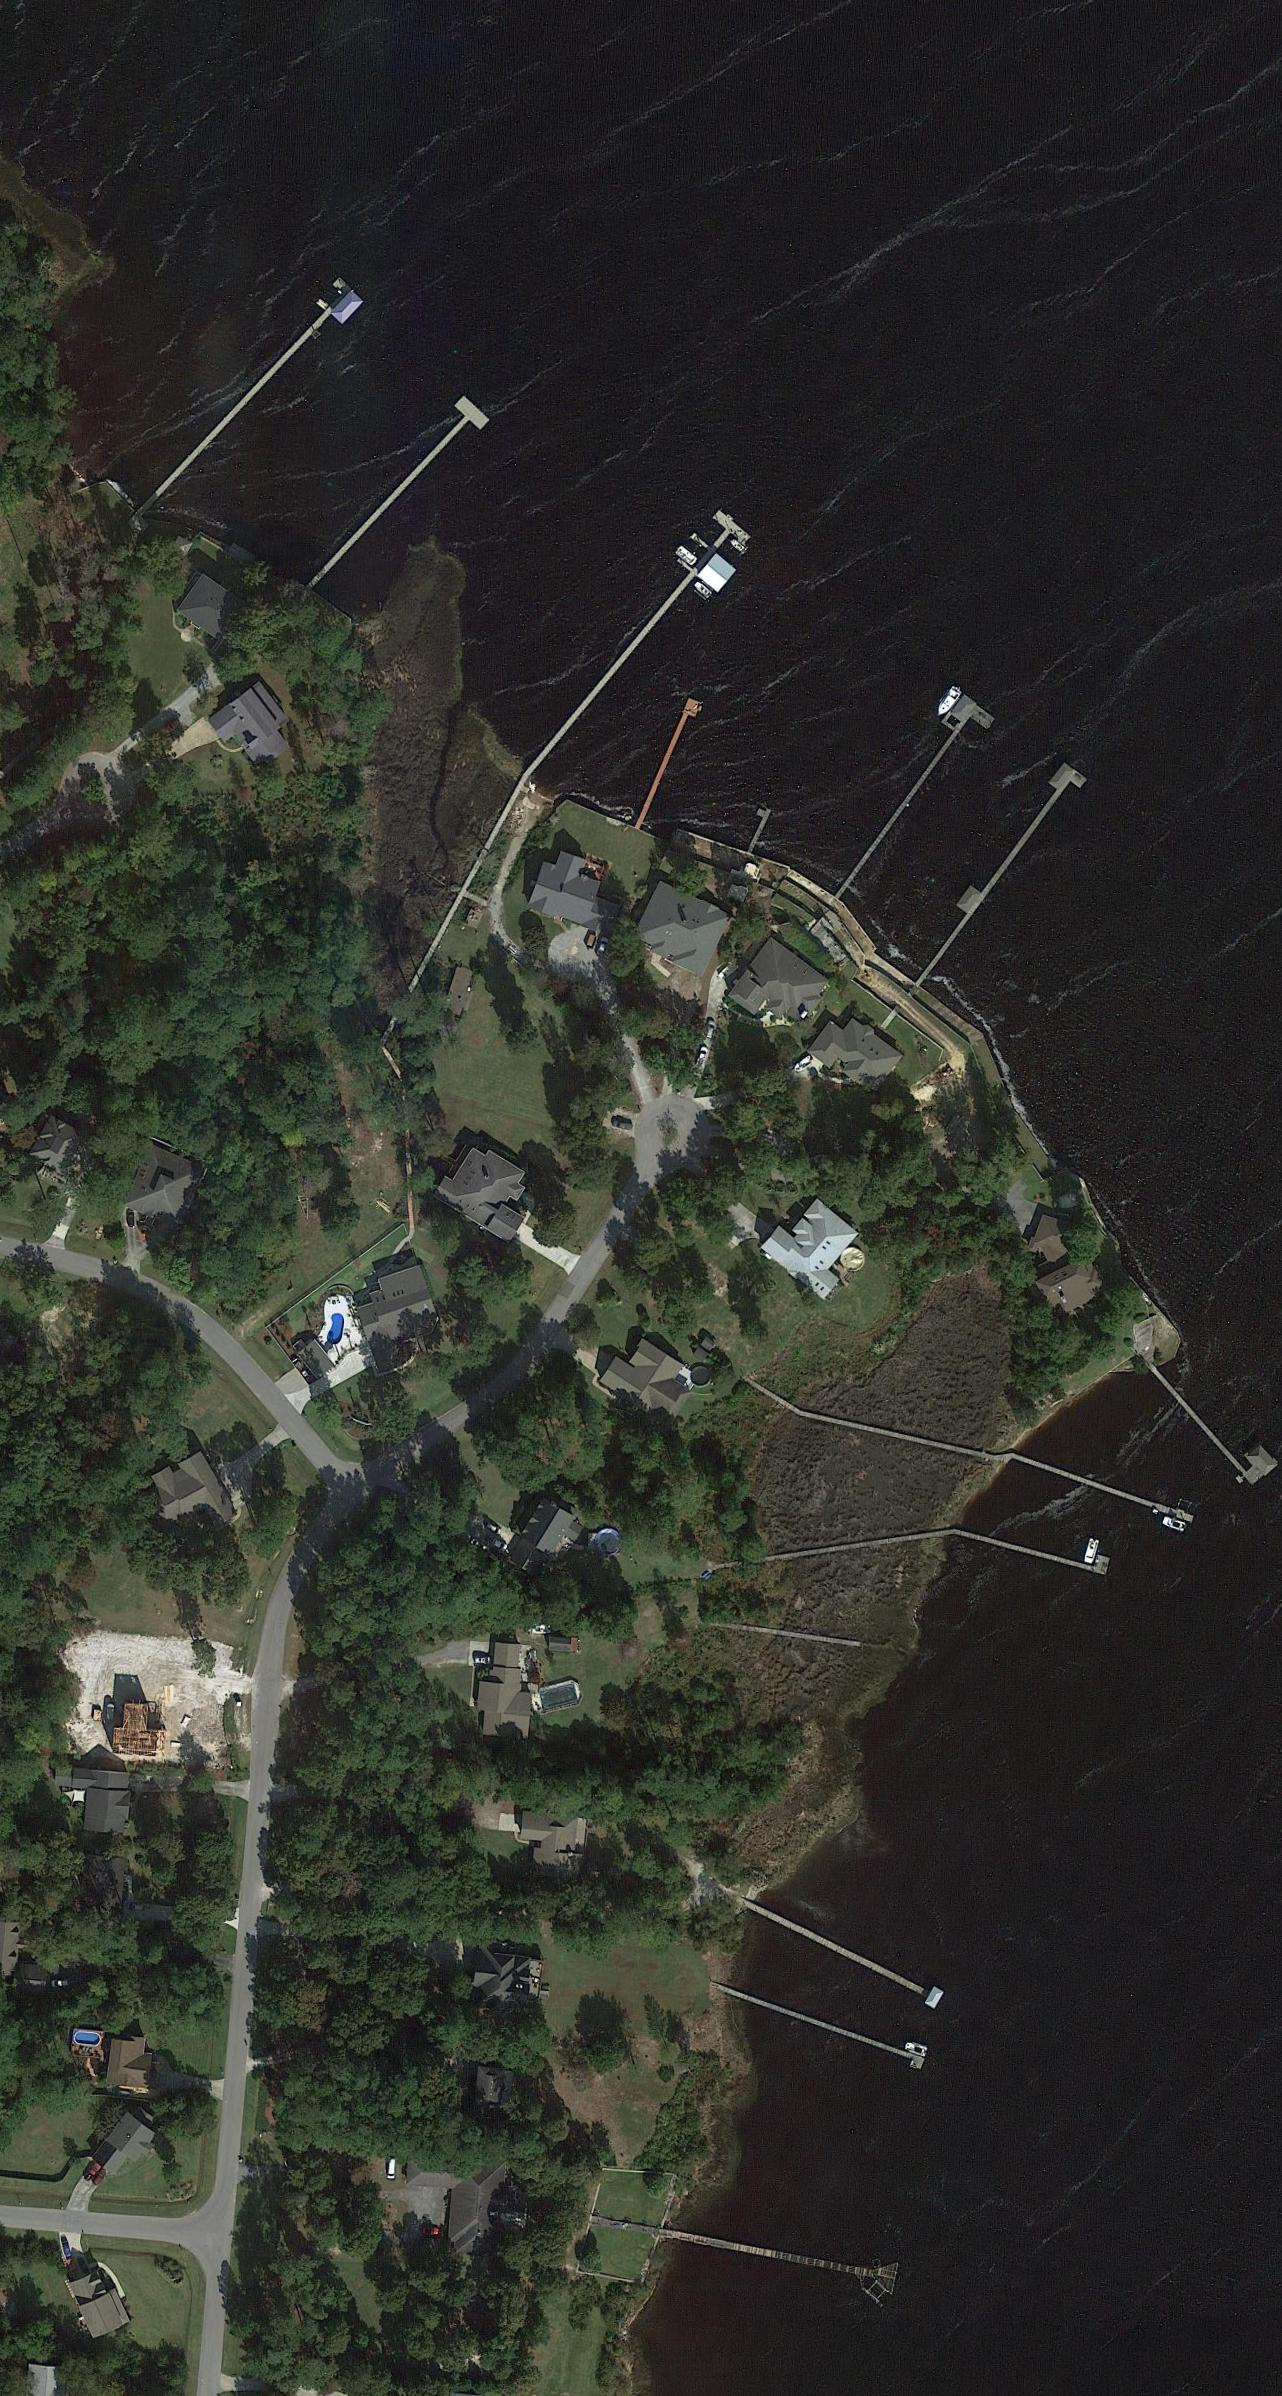harbor: (527, 504, 760, 769), (153, 275, 366, 502), (916, 761, 1088, 980), (831, 692, 996, 897), (315, 394, 491, 583), (747, 1897, 946, 2011), (1143, 1344, 1279, 1491), (685, 2219, 900, 2306), (725, 1986, 927, 2072), (1010, 1450, 1196, 1523), (802, 1408, 994, 1462), (955, 1515, 1112, 1576), (634, 696, 704, 828), (759, 1527, 953, 1565), (760, 1625, 864, 1650), (741, 804, 773, 854)
ship: (931, 680, 964, 723), (674, 544, 700, 571), (717, 959, 741, 984), (1162, 1514, 1189, 1536), (1082, 1536, 1101, 1566), (902, 2038, 929, 2059), (790, 1055, 815, 1075), (693, 579, 714, 600), (729, 538, 748, 555)
